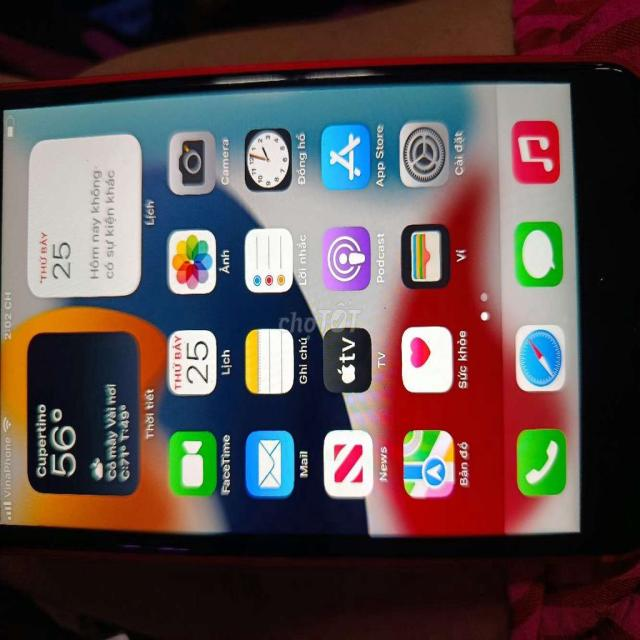gen_7_8: (0, 62, 639, 558)
